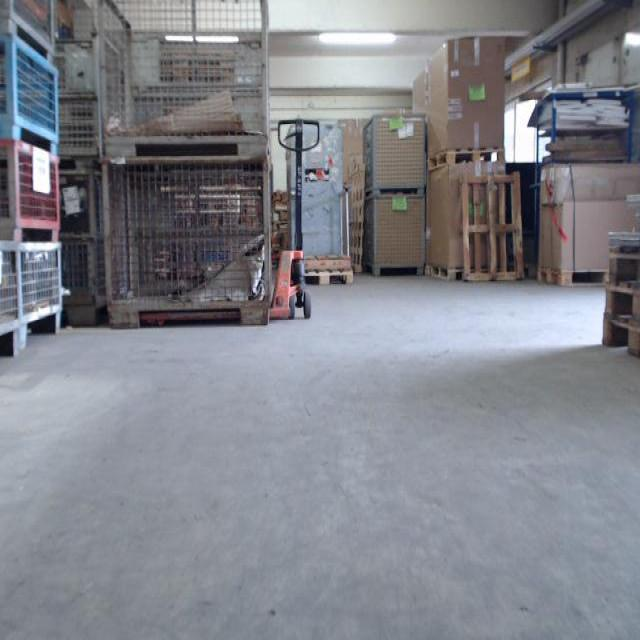pallet: (455, 170, 529, 287), (601, 310, 640, 363), (427, 146, 508, 171), (536, 266, 610, 289), (604, 279, 640, 324), (607, 248, 640, 288), (348, 160, 365, 224), (349, 221, 366, 276), (426, 260, 461, 286), (305, 271, 354, 286)
pallet_truck: (268, 118, 322, 323)
stillage: (100, 158, 277, 332), (97, 5, 276, 155), (2, 137, 69, 245), (2, 36, 62, 149), (361, 110, 432, 194), (362, 195, 428, 281), (18, 247, 69, 357), (44, 39, 97, 105), (58, 244, 101, 325), (58, 166, 102, 243), (1, 3, 55, 57), (52, 106, 100, 162), (1, 247, 20, 361), (49, 2, 100, 40)
